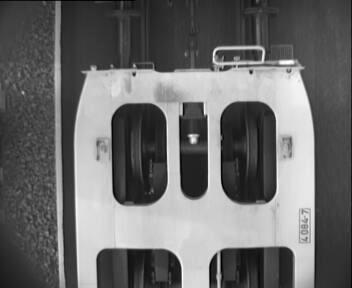twist_lock_2: (102, 97, 286, 211)
